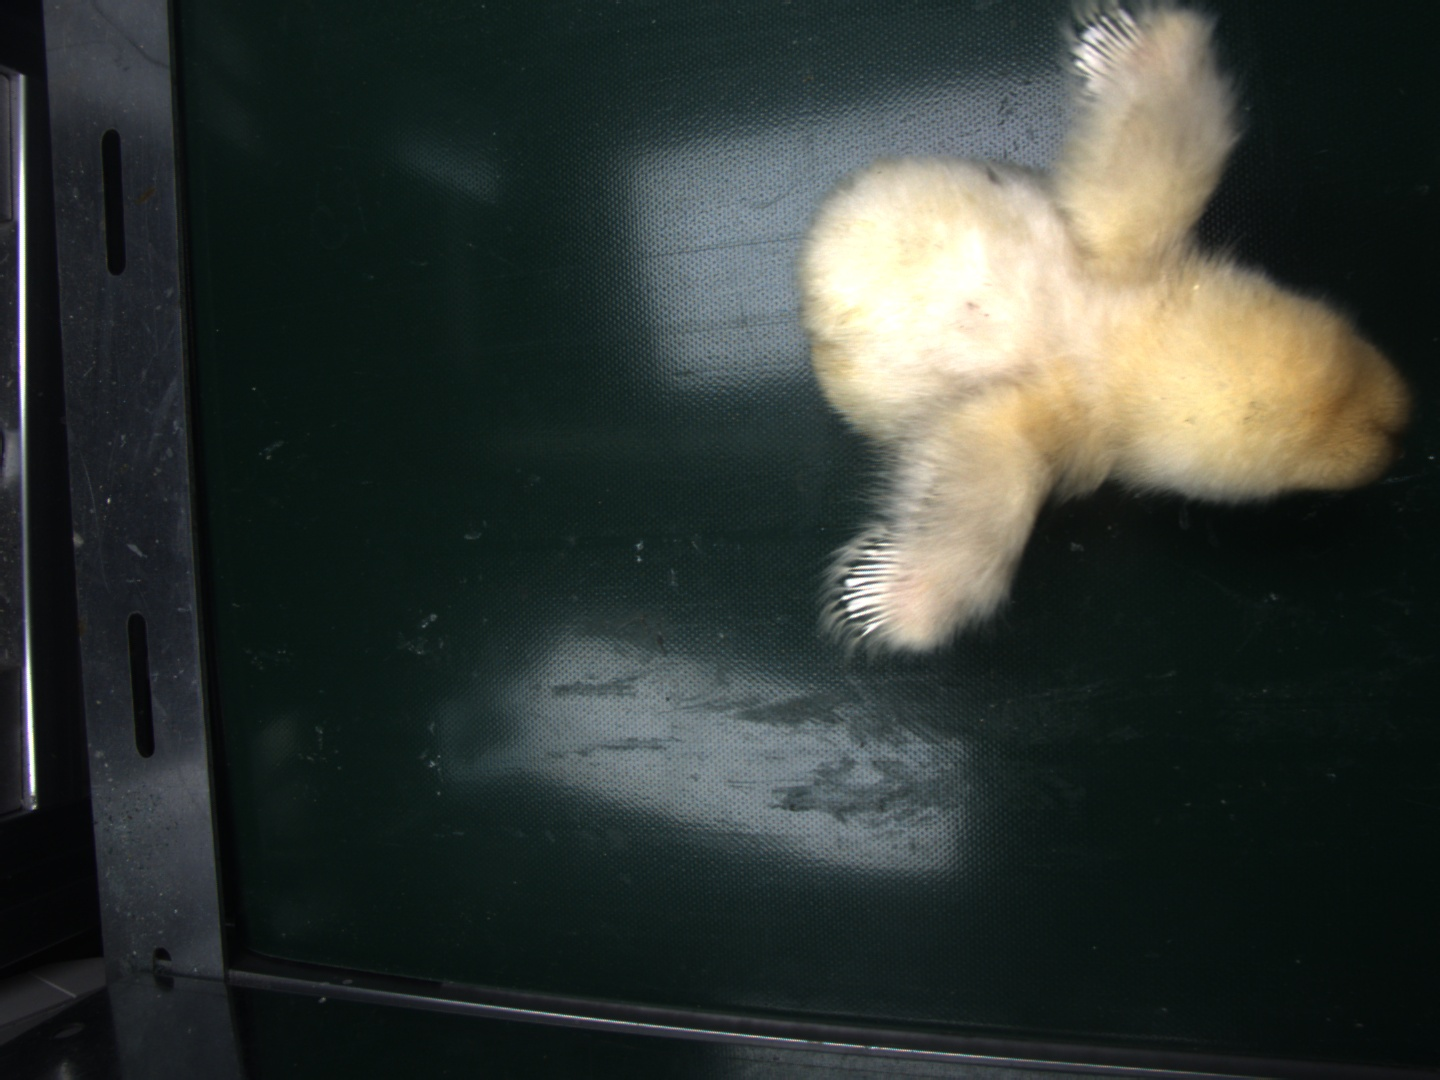male: (839, 533, 908, 636)
